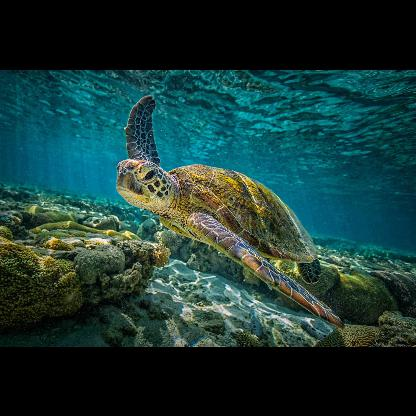turtle: (113, 92, 347, 330)
